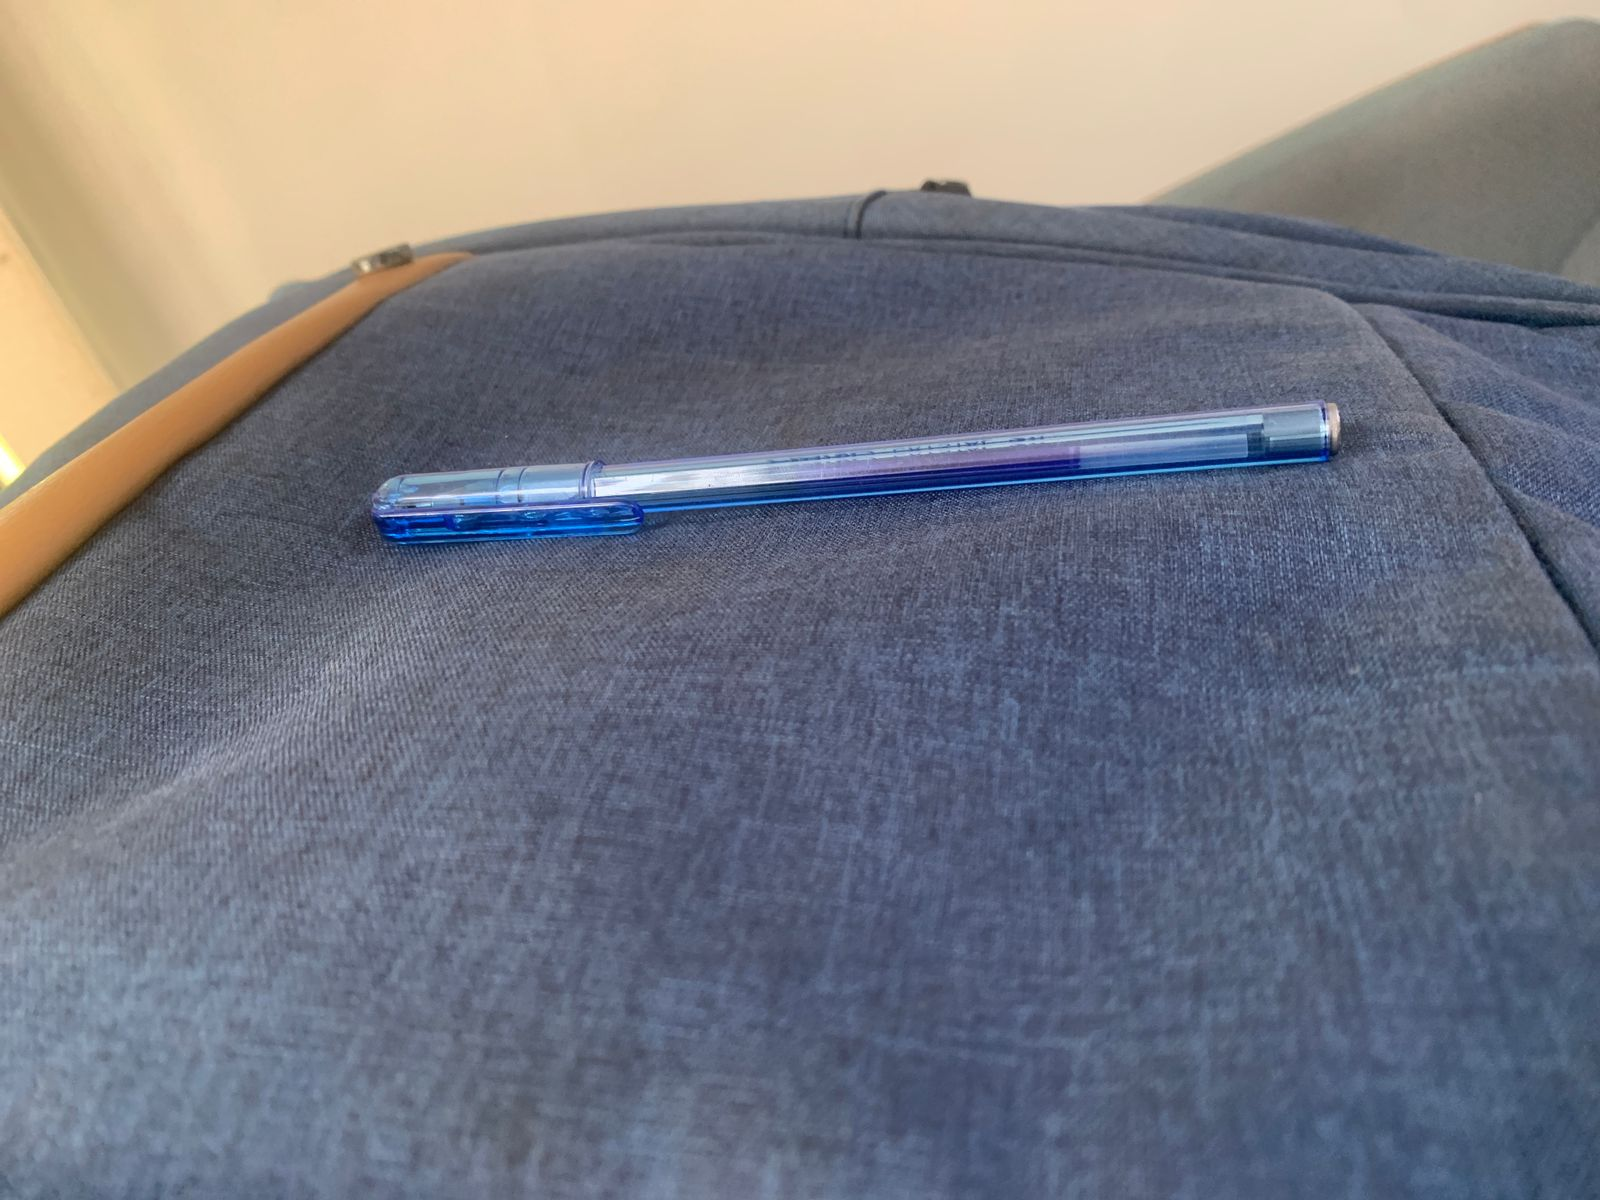pen: (266, 384, 1424, 611)
